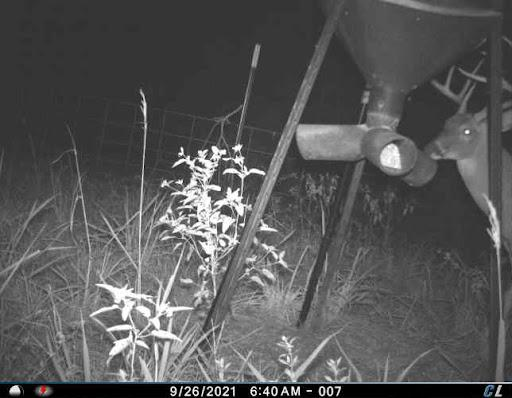Deer: (418, 27, 512, 366)
